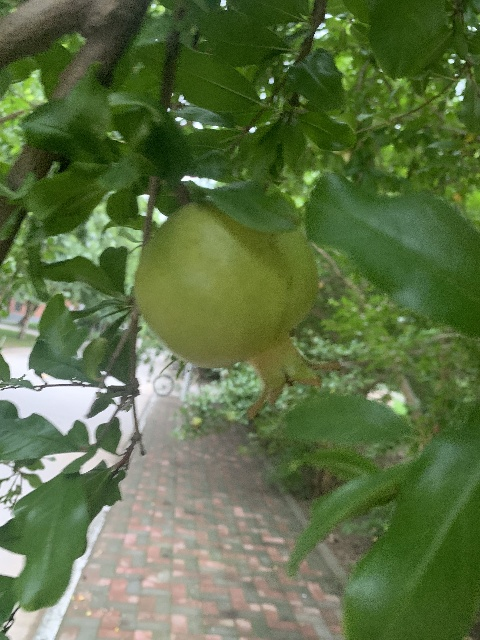mid-growth: (133, 200, 334, 419)
